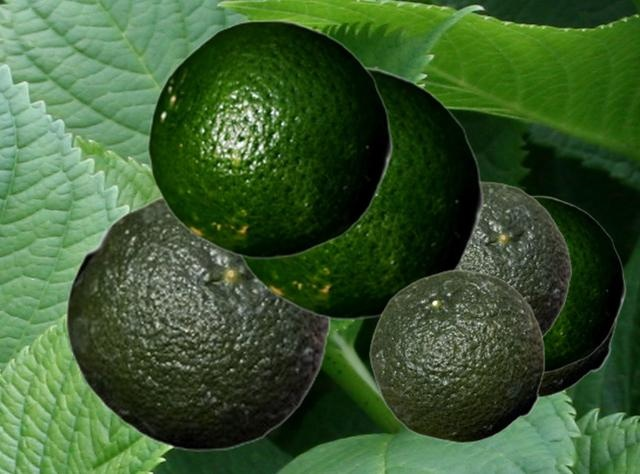calamansi: (65, 195, 330, 450), (237, 66, 483, 319), (147, 19, 392, 258), (369, 269, 544, 442), (459, 181, 571, 338), (532, 195, 625, 373), (539, 322, 616, 397)
